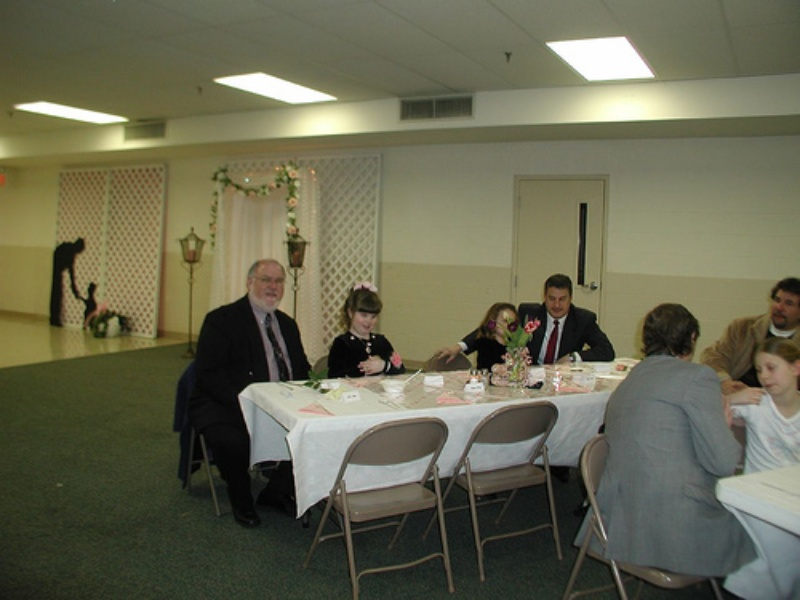person: (574, 303, 759, 575), (195, 259, 313, 527), (438, 273, 616, 364), (698, 277, 800, 388), (722, 337, 800, 474), (326, 282, 405, 377), (477, 301, 517, 369)
